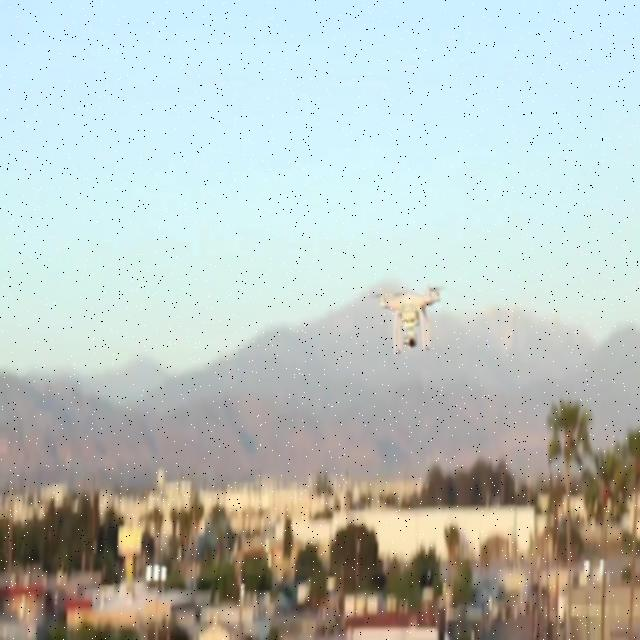UAV: (369, 284, 445, 356)
